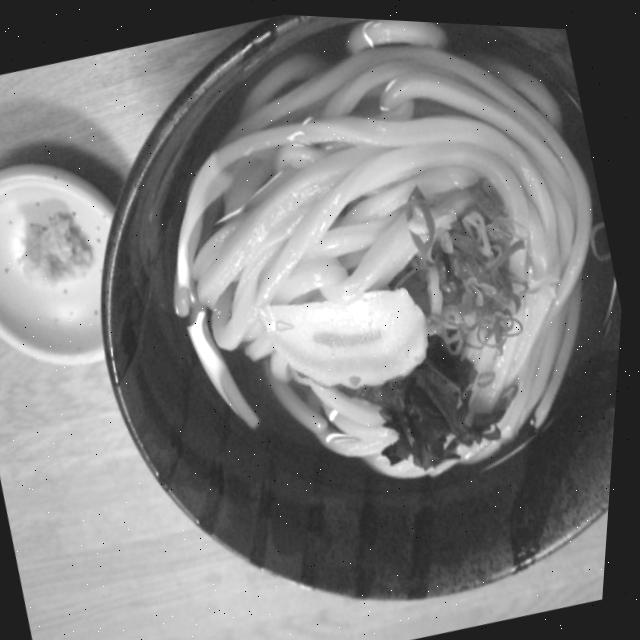面条主食: (66, 4, 640, 609)
